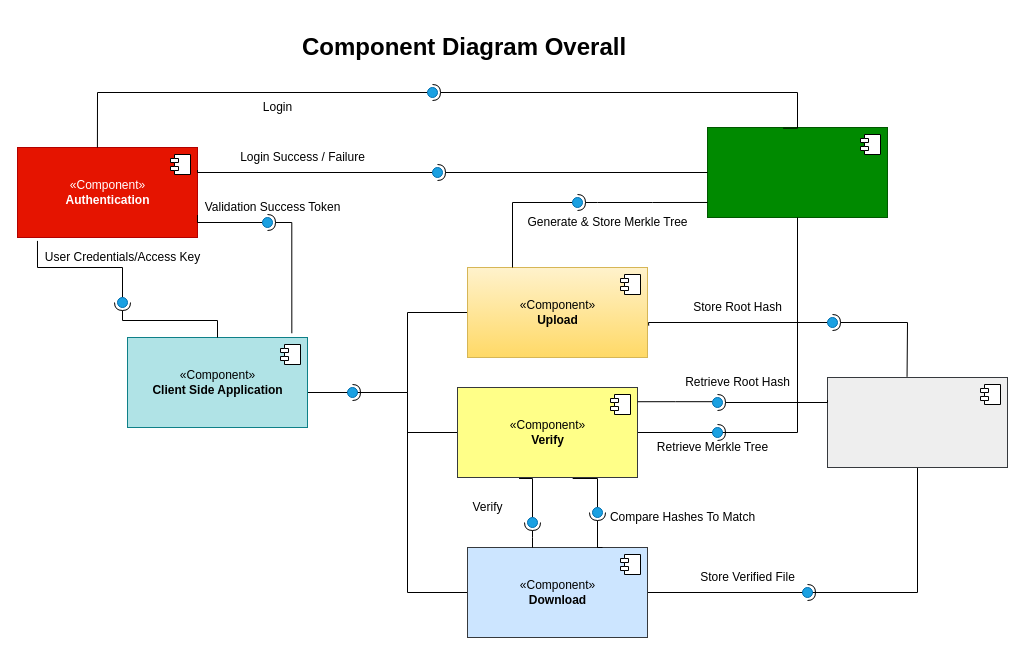
Image size: 1025x655. Some labels were removed from this diagram. Here are the shapes that lost their labels. From the top down, the centre of each, then its label:
At point 797,172: "«Component» Cloud Service Provider".
At point 917,422: "«Component» Local File System".
